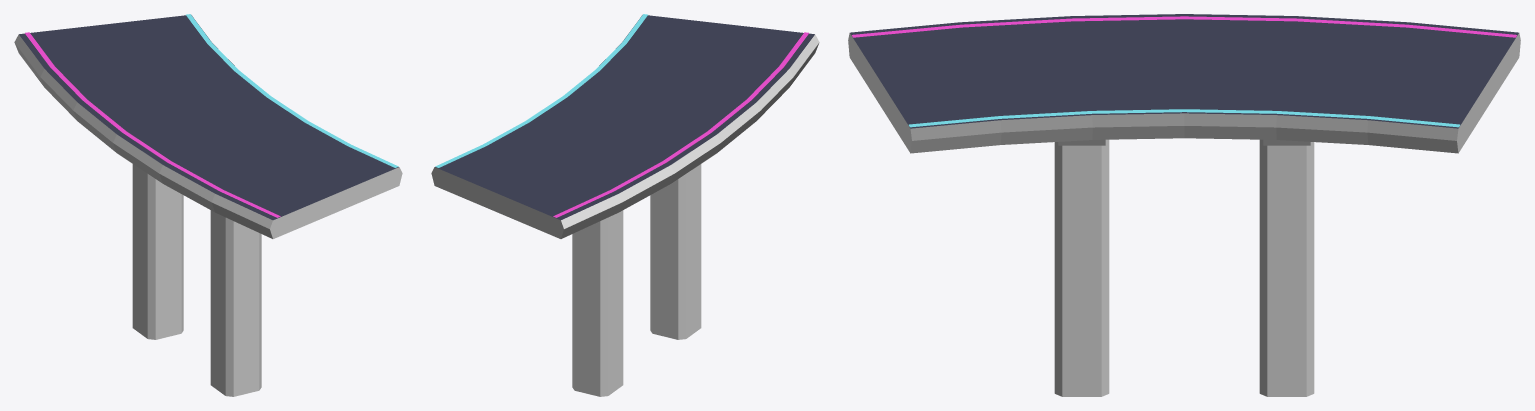
The model's file is highway_curve.obj.
The picture shows the model from 3 angles, left to right: view 1: azimuth 30°, elevation 25°; view 2: azimuth 150°, elevation 25°; view 3: azimuth 270°, elevation 25°; orthographic projection. The views are drawn at different scales.
Bounding box in the file's own units: 14.43 × 18.05 × 34.32.
